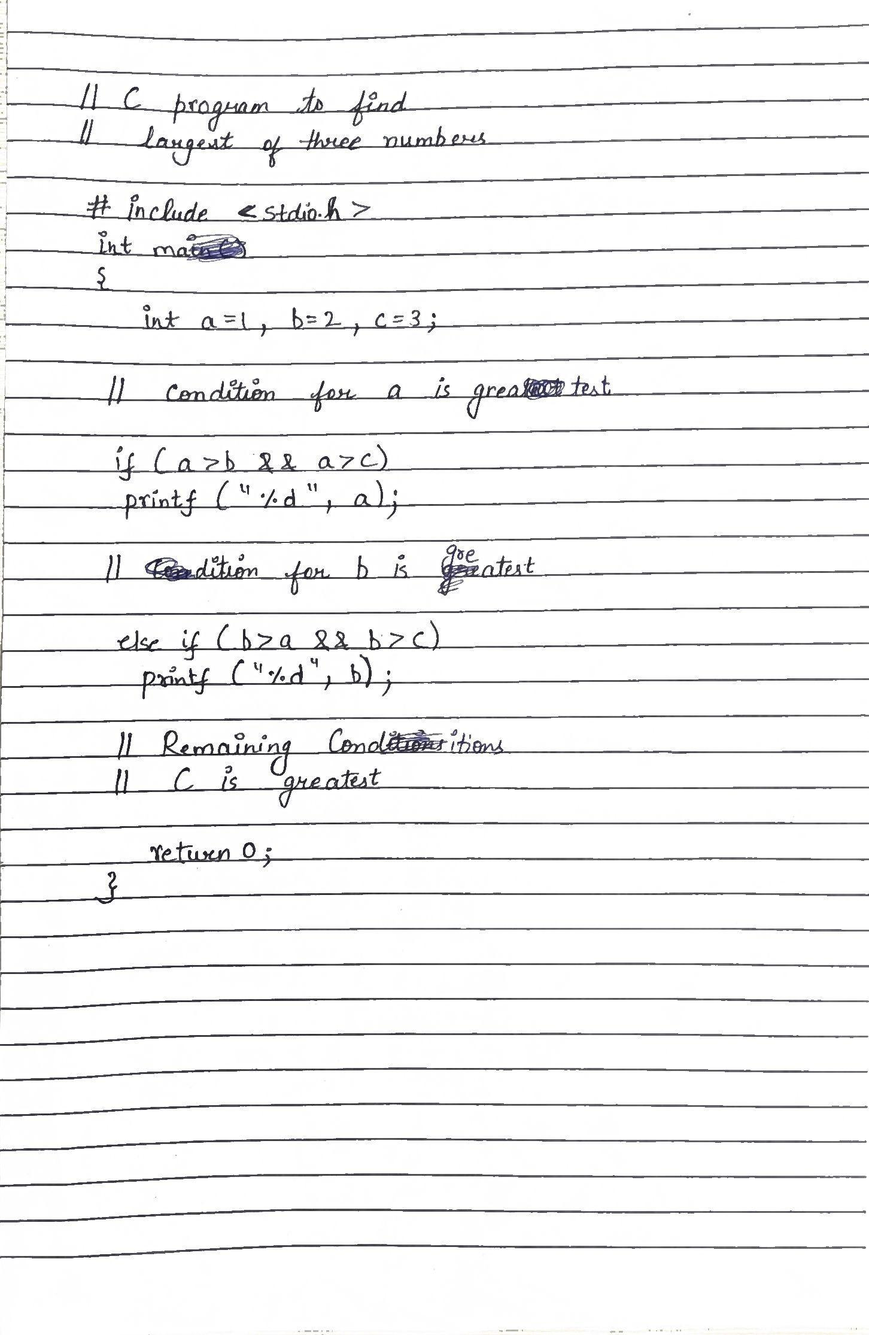cuttings: (141, 553, 261, 583), (152, 232, 248, 265), (435, 564, 482, 597), (387, 729, 447, 753), (523, 376, 566, 406)
